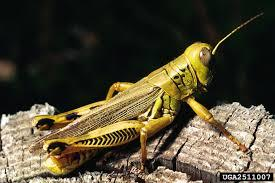Insects: (25, 6, 267, 176)
